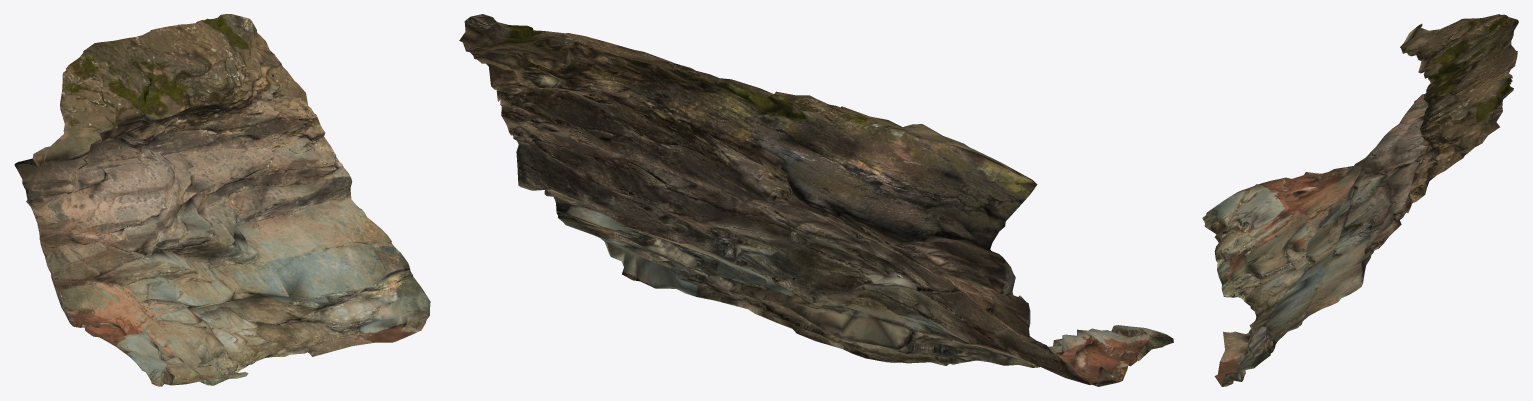
Rendered from rock_face_01.glb.
The picture shows the model from 3 angles, left to right: view 1: azimuth 30°, elevation 25°; view 2: azimuth 150°, elevation 25°; view 3: azimuth 270°, elevation 25°; orthographic projection. The views are drawn at different scales.
Visible parts, largest first — view 1: rock_face_01; view 2: rock_face_01; view 3: rock_face_01.
Part boxes in pixels (bbox=[...]): rock_face_01: bbox=[14, 14, 430, 386]; rock_face_01: bbox=[459, 14, 1173, 386]; rock_face_01: bbox=[1202, 14, 1518, 386].
Bounding box in the file's own units: 4.94 × 3.56 × 3.82.
1 material, 1 textured.
